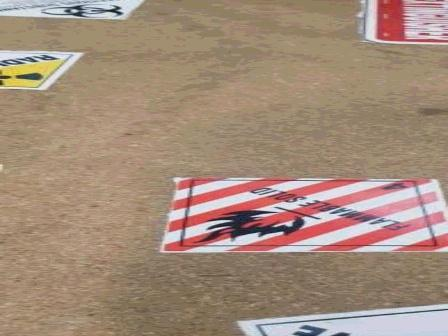flammable-solid: (160, 178, 448, 252)
infectious-substance: (2, 1, 141, 19)
radioactive: (2, 51, 86, 90)
